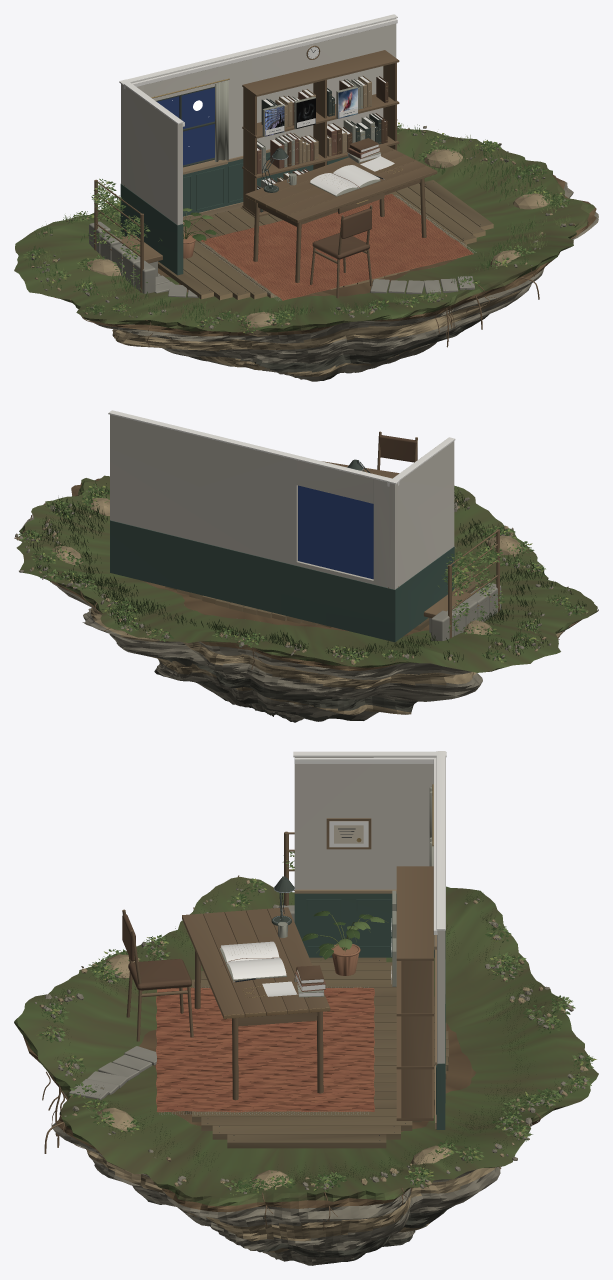
Rendered from orbit-writing-2334503d.glb.
3 views of the same model, one above another, from view 1: azimuth 30°, elevation 25°; view 2: azimuth 150°, elevation 25°; view 3: azimuth 270°, elevation 25° (orthographic). The views are drawn at different scales.
Parts seen in each view (by area): view 1: Writing island · browser materials; view 2: Writing island · browser materials; view 3: Writing island · browser materials.
Part boxes in pixels (left/top/right/bottom): Writing island · browser materials: left=14, top=14, right=598, bottom=381; Writing island · browser materials: left=14, top=410, right=598, bottom=722; Writing island · browser materials: left=14, top=751, right=598, bottom=1265.
Size of the model in its own units: 11.7 by 6.39 by 8.62.
34 materials, 3 textured.
